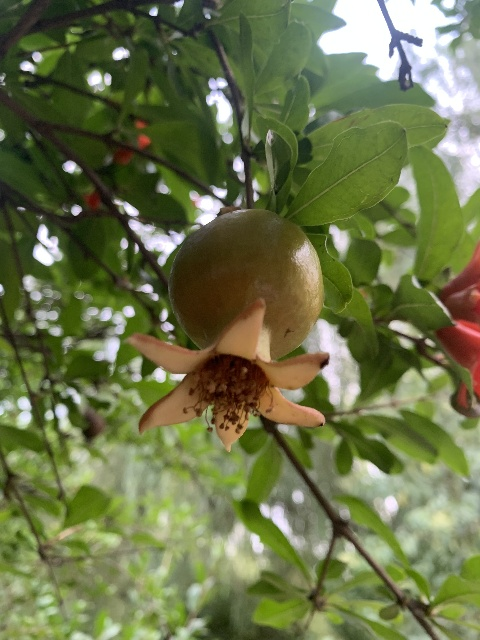mid-growth: (126, 208, 330, 453)
